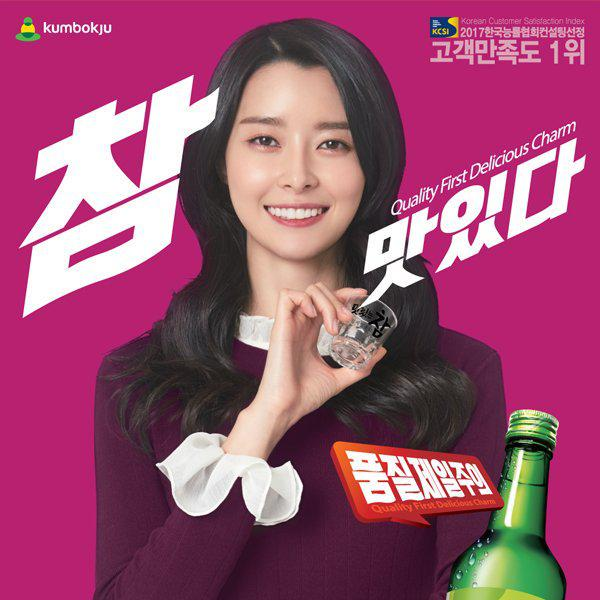soju: (439, 407, 568, 600)
